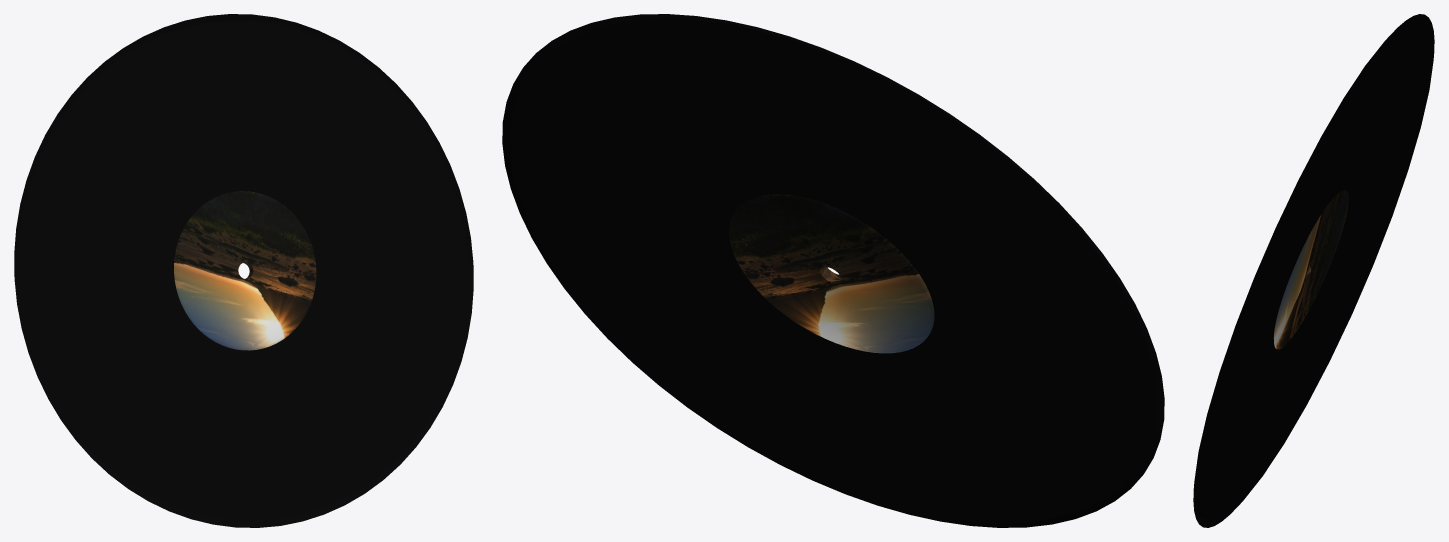
The model's file is disk.glb.
3 renders of one model, left to right at view 1: azimuth 30°, elevation 25°; view 2: azimuth 150°, elevation 25°; view 3: azimuth 270°, elevation 25°, orthographic. The views are drawn at different scales.
Visible parts, largest first — view 1: Vinyl disk.001; view 2: Vinyl disk.001; view 3: Vinyl disk.001.
Part boxes in pixels (bbox=[...]): Vinyl disk.001: bbox=[14, 14, 473, 527]; Vinyl disk.001: bbox=[502, 14, 1164, 527]; Vinyl disk.001: bbox=[1193, 14, 1434, 527].
Bounding box in the file's own units: 0.8976 × 0.8097 × 0.3875.
Materials: 3 (3 with a texture image).
